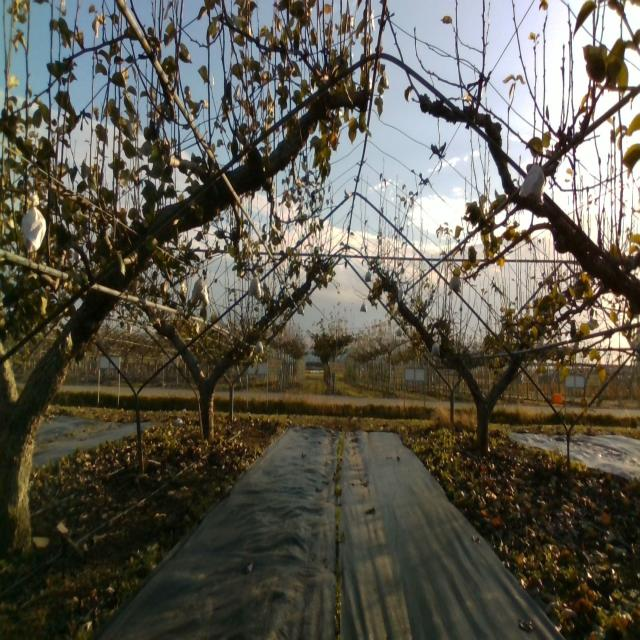pearbags: (21, 192, 46, 252), (518, 154, 545, 207), (191, 274, 209, 303), (247, 275, 262, 300), (448, 274, 461, 295)
